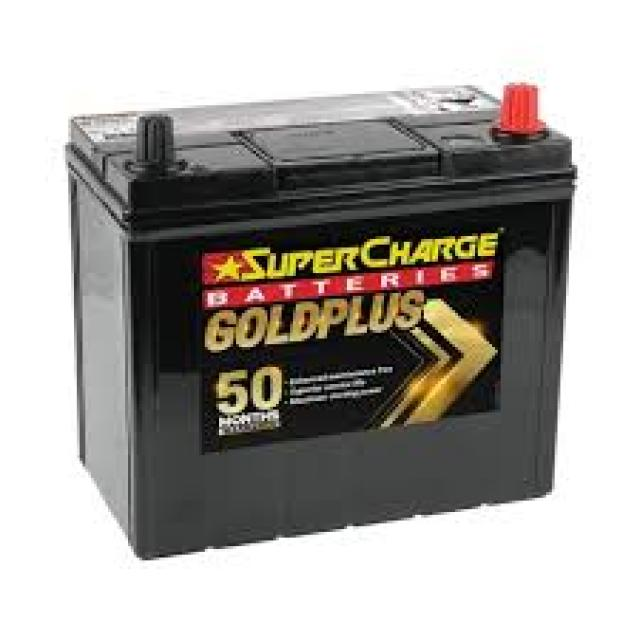Battery: (80, 43, 594, 535)
